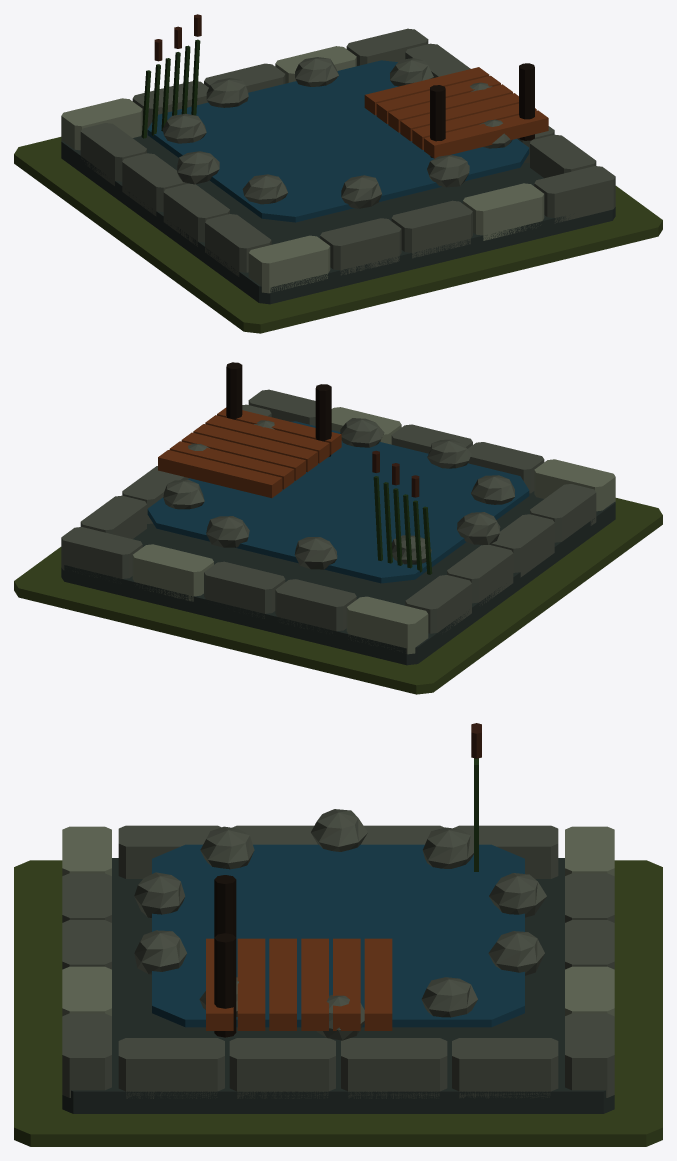
The model's file is pond_t3.glb.
3 views of the same model, one above another, from view 1: azimuth 30°, elevation 25°; view 2: azimuth 150°, elevation 25°; view 3: azimuth 270°, elevation 25° (orthographic). The views are drawn at different scales.
Visible parts, largest first — view 1: MMR | pond | T03 Architecture.001, MMR | pond | Tier 03 Ground.001; view 2: MMR | pond | T03 Architecture.001, MMR | pond | Tier 03 Ground.001; view 3: MMR | pond | T03 Architecture.001, MMR | pond | Tier 03 Ground.001.
Boxes of the visible parts, left/top/right/bottom form: MMR | pond | T03 Architecture.001: left=61, top=14, right=615, bottom=304; MMR | pond | Tier 03 Ground.001: left=14, top=137, right=662, bottom=333; MMR | pond | T03 Architecture.001: left=61, top=362, right=615, bottom=665; MMR | pond | Tier 03 Ground.001: left=14, top=498, right=662, bottom=694; MMR | pond | T03 Architecture.001: left=62, top=723, right=614, bottom=1113; MMR | pond | Tier 03 Ground.001: left=14, top=860, right=662, bottom=1146.
Bounding box in the file's own units: 2.35 × 0.88 × 2.35.
Materials: 1 (1 with a texture image).
